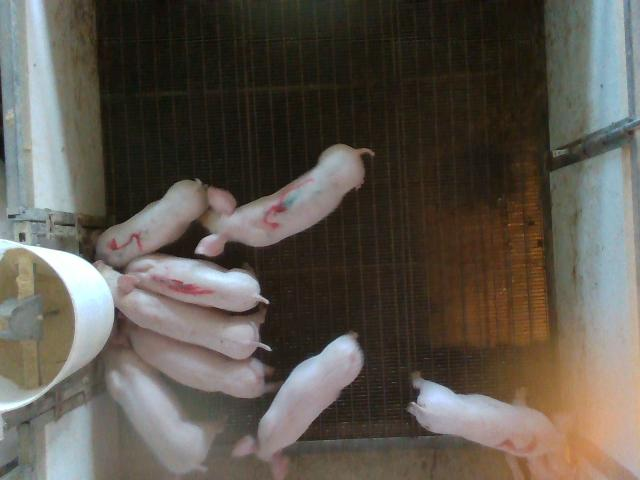pig-1: (118, 254, 269, 312)
pig-2: (408, 371, 575, 478)
pig-3: (195, 145, 374, 256)
pig-5: (96, 180, 208, 269)
